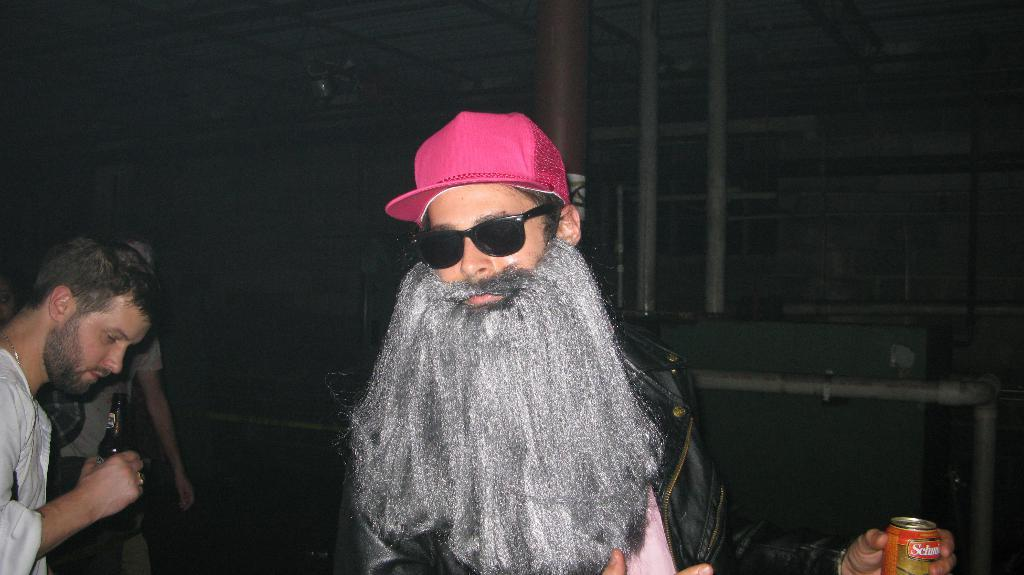Hat: (386, 110, 574, 226)
